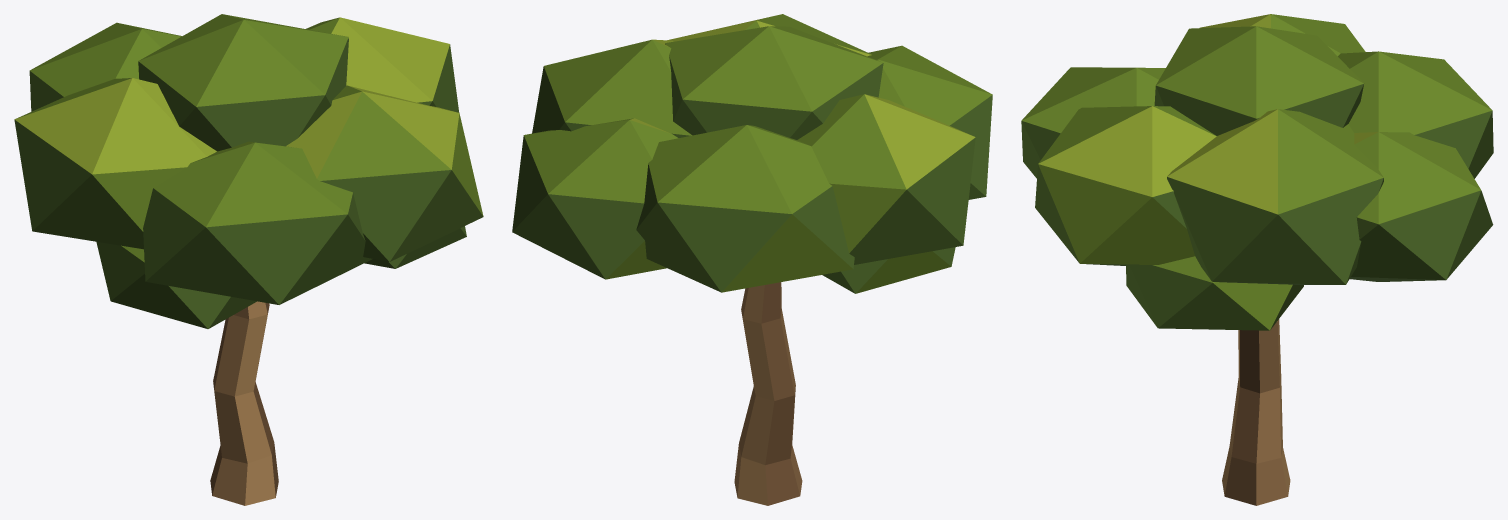
Rendered from tree_round_b_far.glb.
The picture shows the model from 3 angles, left to right: view 1: azimuth 30°, elevation 25°; view 2: azimuth 150°, elevation 25°; view 3: azimuth 270°, elevation 25°; orthographic projection.
Parts seen in each view (by area): view 1: body; view 2: body; view 3: body.
Boxes of the visible parts, x1,y1,x2,y2 form: body: (14, 14, 483, 505); body: (512, 14, 992, 505); body: (1021, 14, 1493, 505).
Bounding box in the file's own units: 3.93 × 4.19 × 3.88.
